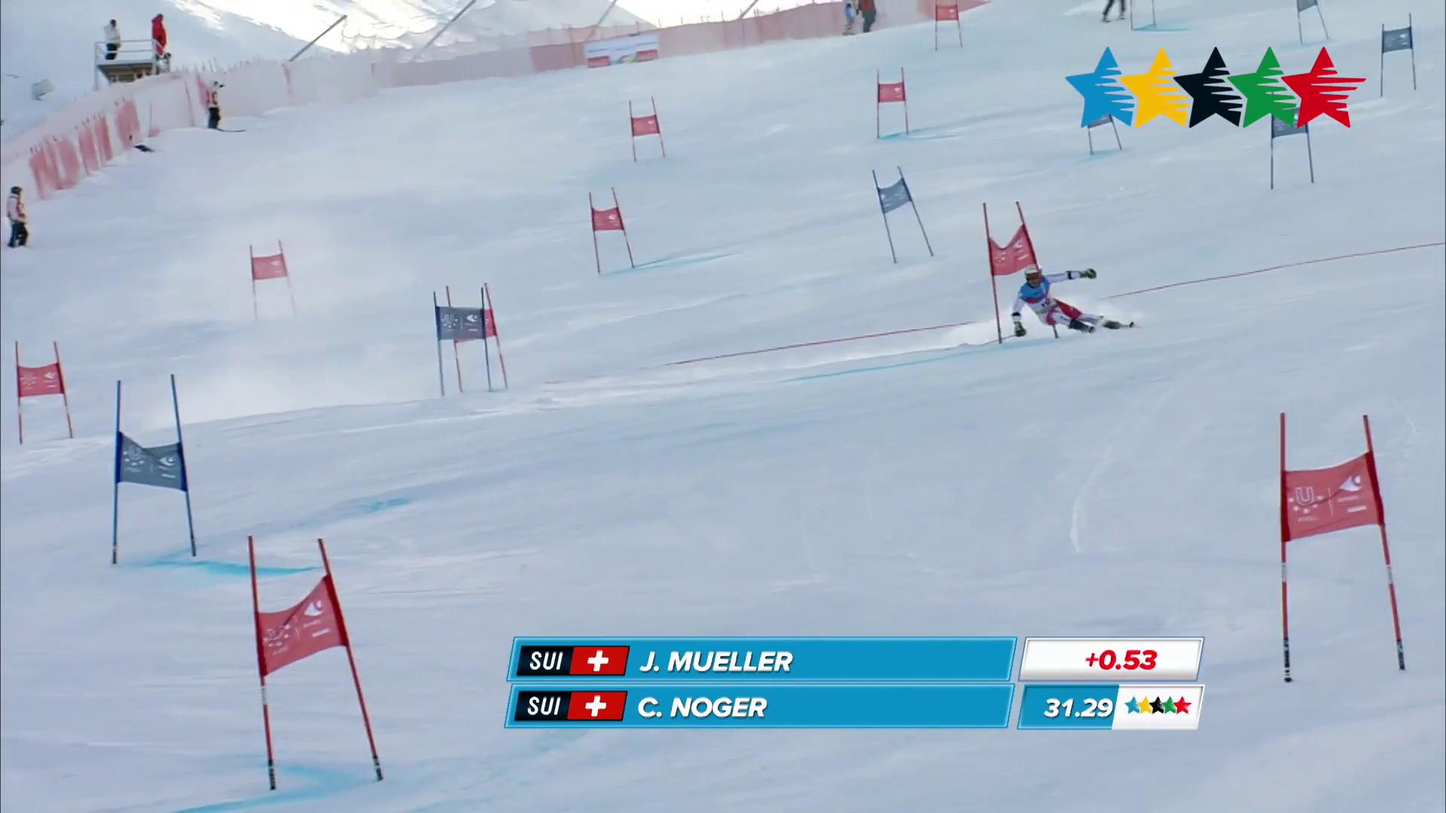gate: (247, 536, 383, 790), (1279, 413, 1404, 682), (111, 374, 196, 563), (14, 341, 72, 444)
